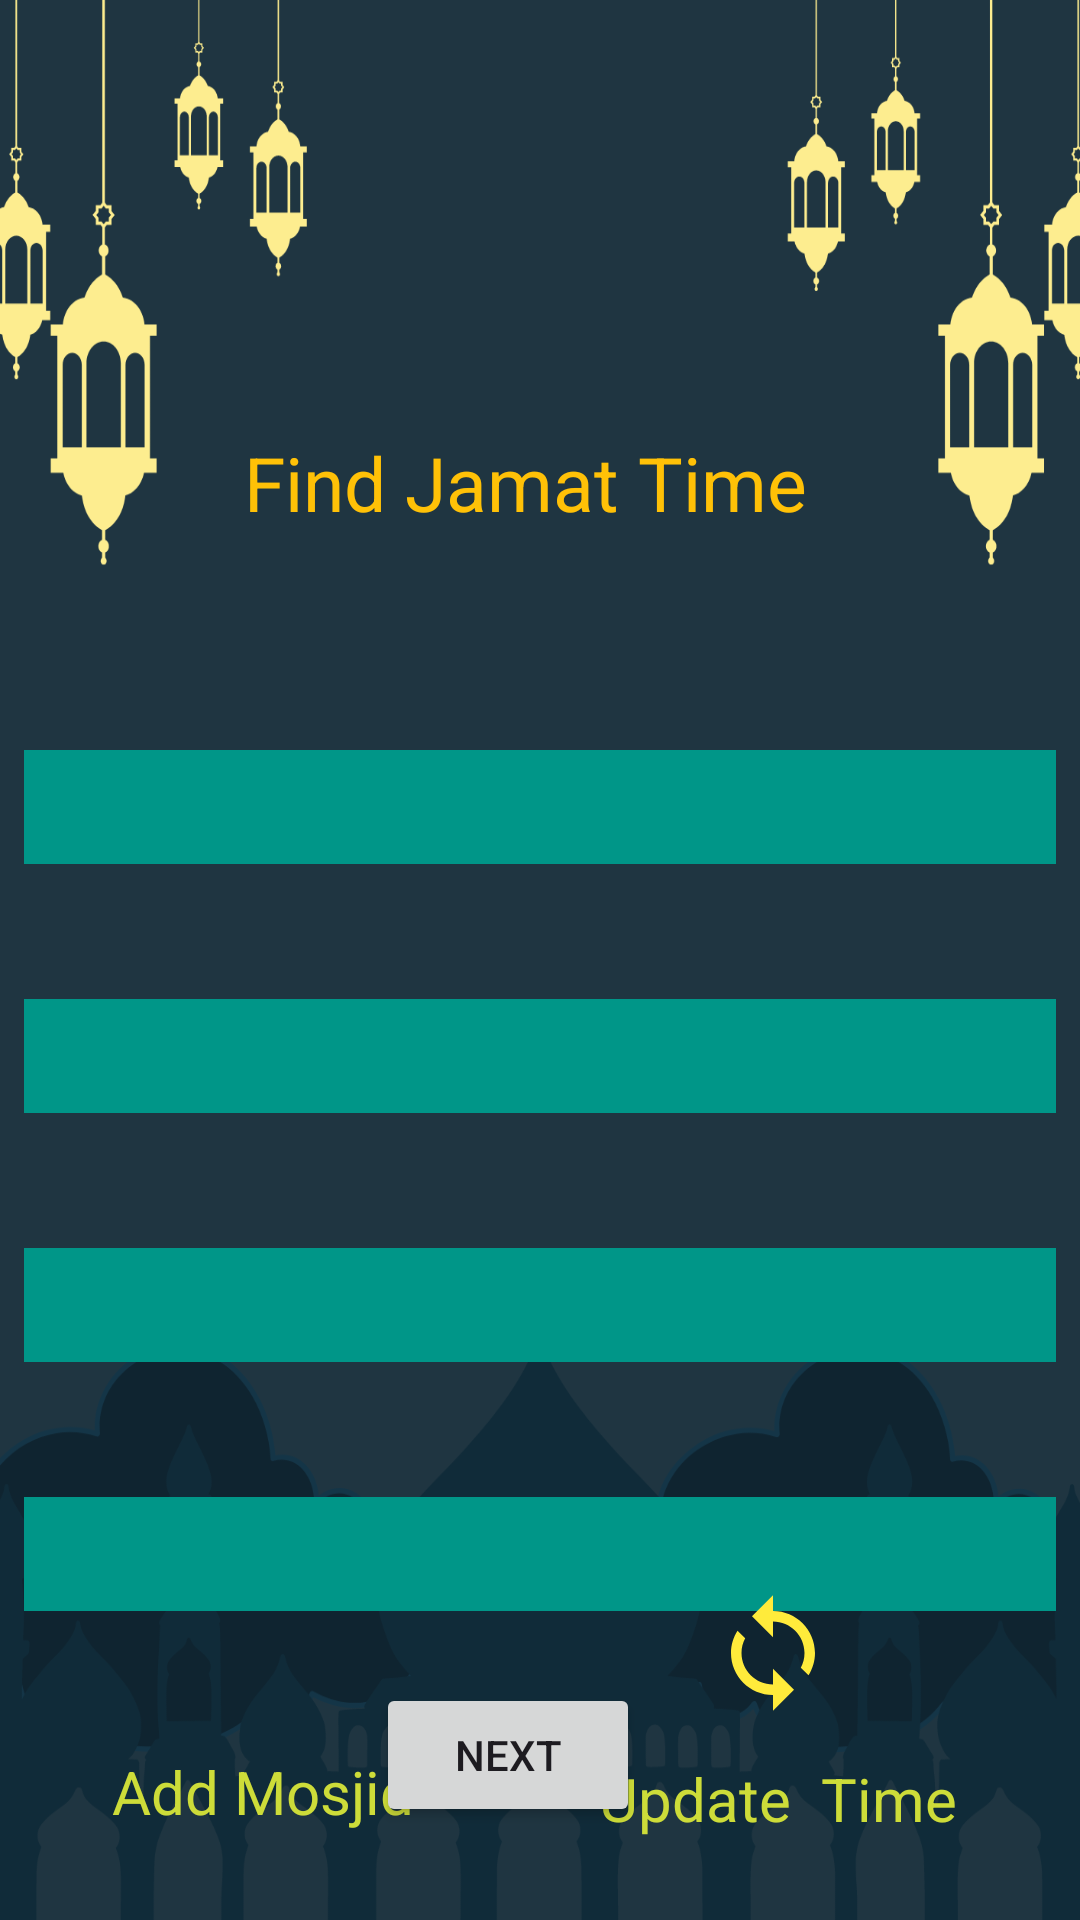

Named icons in this screenshot (1080x1920) and their centers, [x,y]:
sync: [773,1653]
